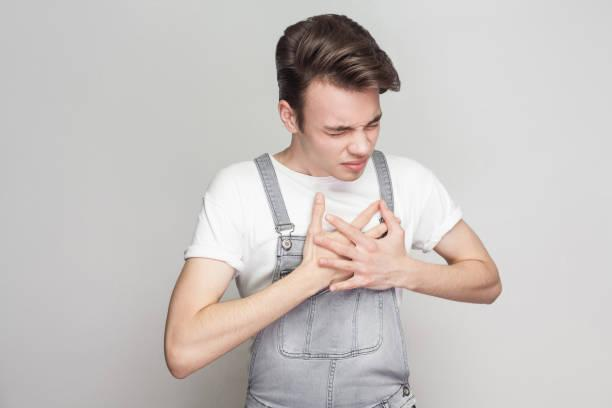pain: (312, 111, 390, 140)
